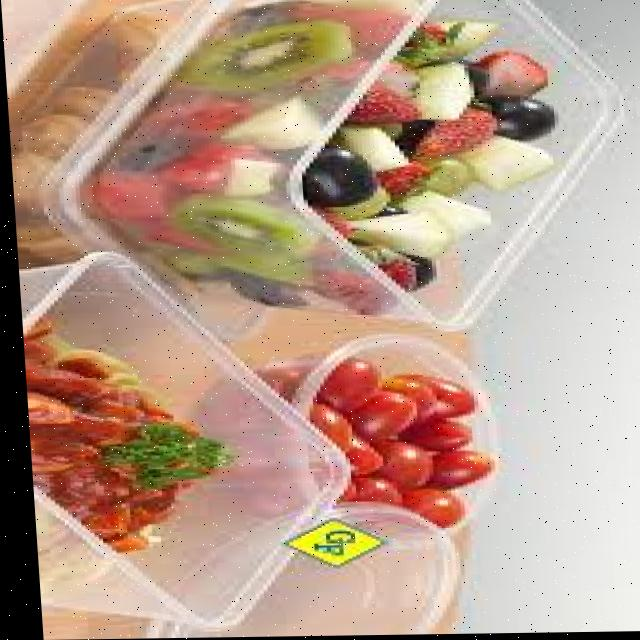disposable: (80, 0, 620, 349)
